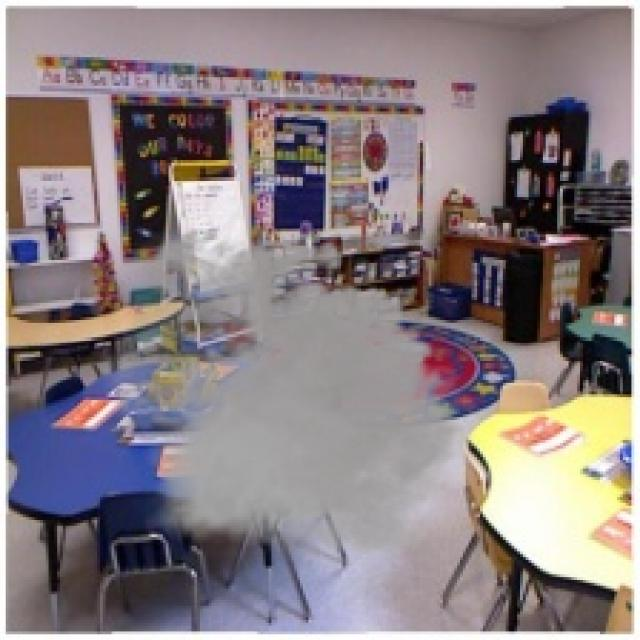smoke: (91, 217, 486, 569)
